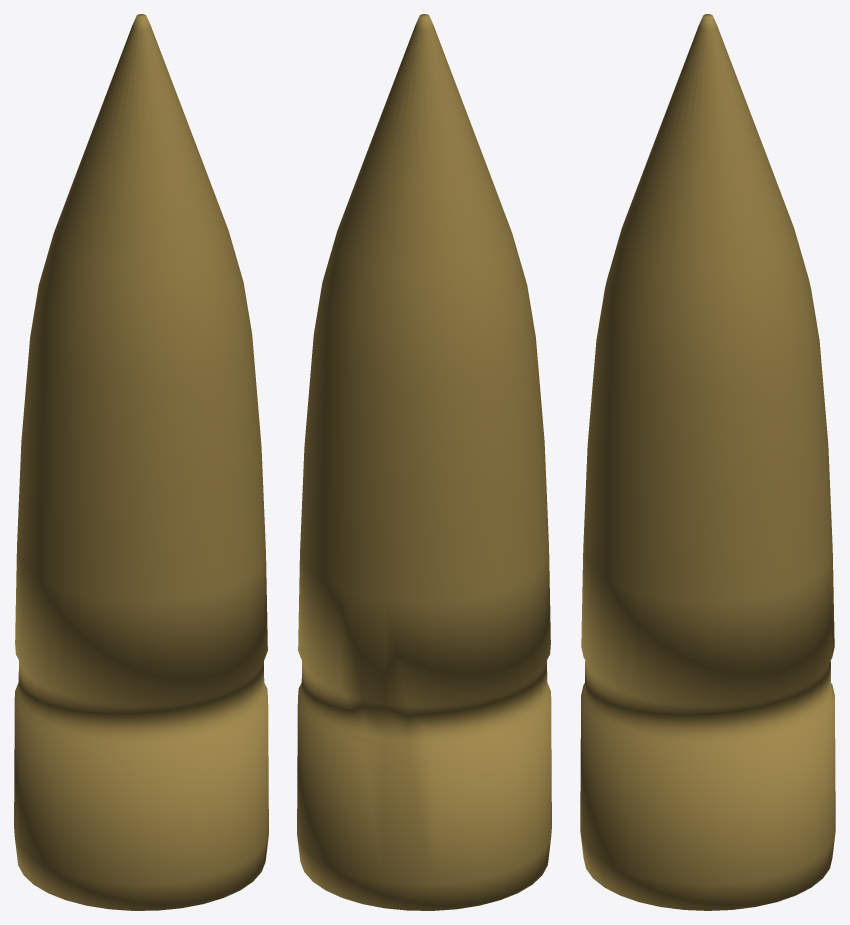
Rendered from 7.62x51_Nato_Bullet.fbx.
3 renders of one model, left to right at view 1: azimuth 30°, elevation 25°; view 2: azimuth 150°, elevation 25°; view 3: azimuth 270°, elevation 25°, orthographic.
Visible parts, largest first — view 1: 7.62x51NATO; view 2: 7.62x51NATO; view 3: 7.62x51NATO.
Part boxes in pixels (left/top/right/bottom): 7.62x51NATO: left=14, top=14, right=268, bottom=910; 7.62x51NATO: left=297, top=14, right=551, bottom=910; 7.62x51NATO: left=580, top=14, right=835, bottom=910.
Bounding box in the file's own units: 0.7608 × 2.79 × 0.7608.
